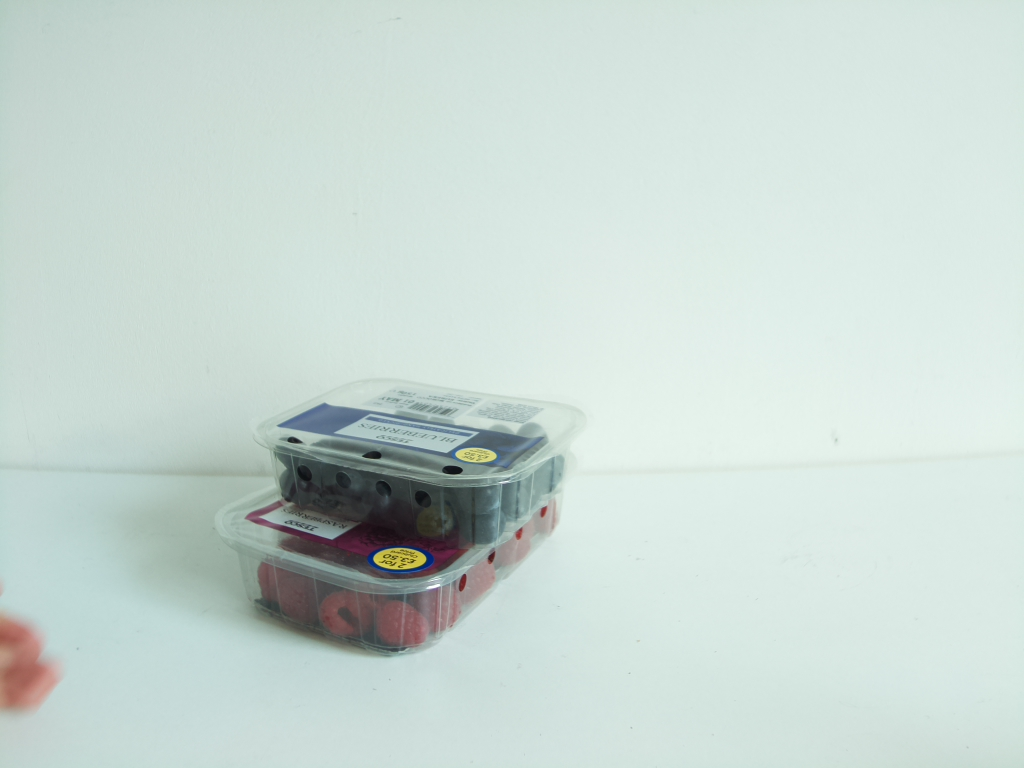soft-fruit: (222, 494, 566, 659), (252, 377, 582, 542)
